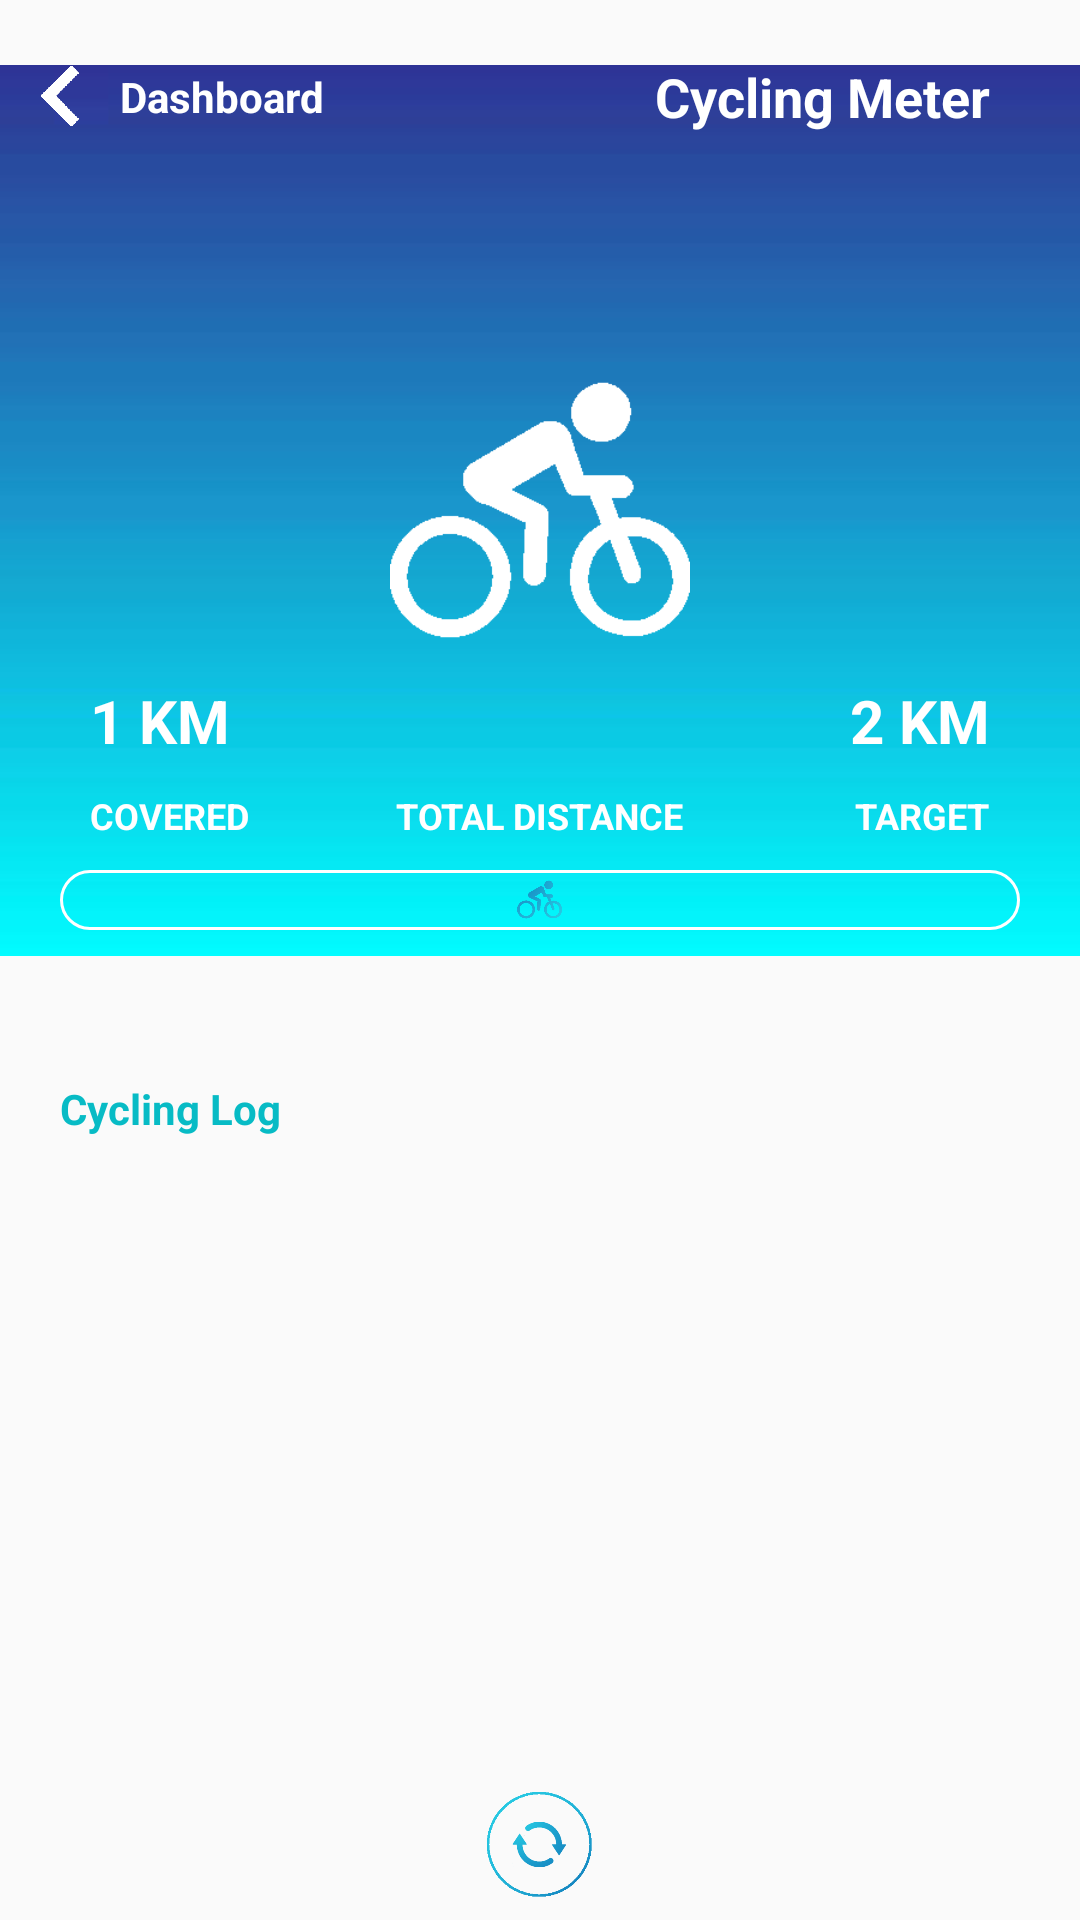

Screen size 1080 x 1920. Icon name, then its center in pixels as (x=x, y=y):
back: (x=60, y=96)
cycling: (x=540, y=510), (x=539, y=900)
refreshhome: (x=539, y=1844)
